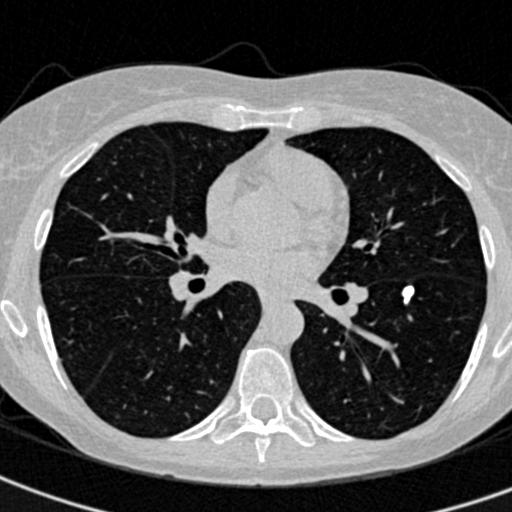nodule: (400, 285, 416, 301)
